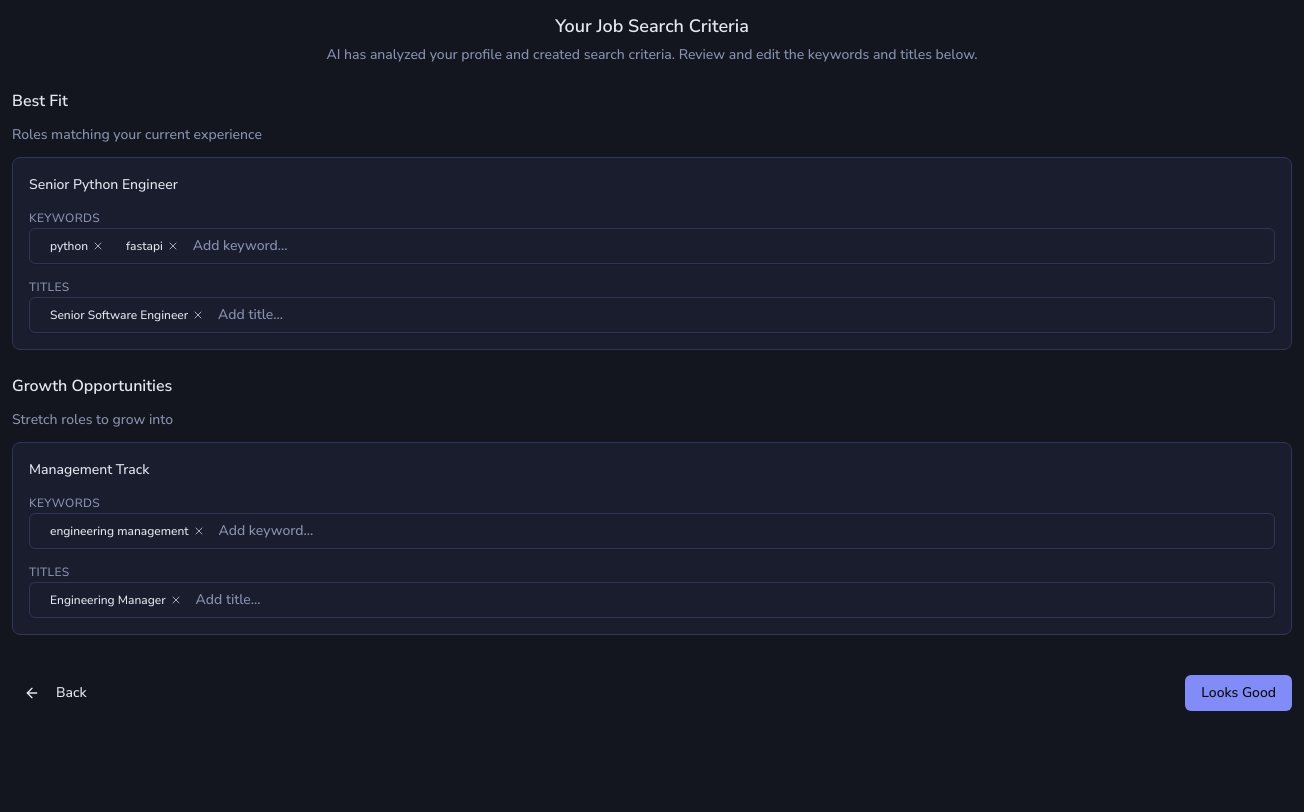
it: SearchCriteriaStep › tag editing › removes a title tag when X is clicked
Expected: the button with test id "approve-button" is shown, left=1185, top=675, right=1292, bottom=711
Click the button named "remove Senior Software Engineer" at (198, 315), box left=192, top=309, right=204, bottom=321
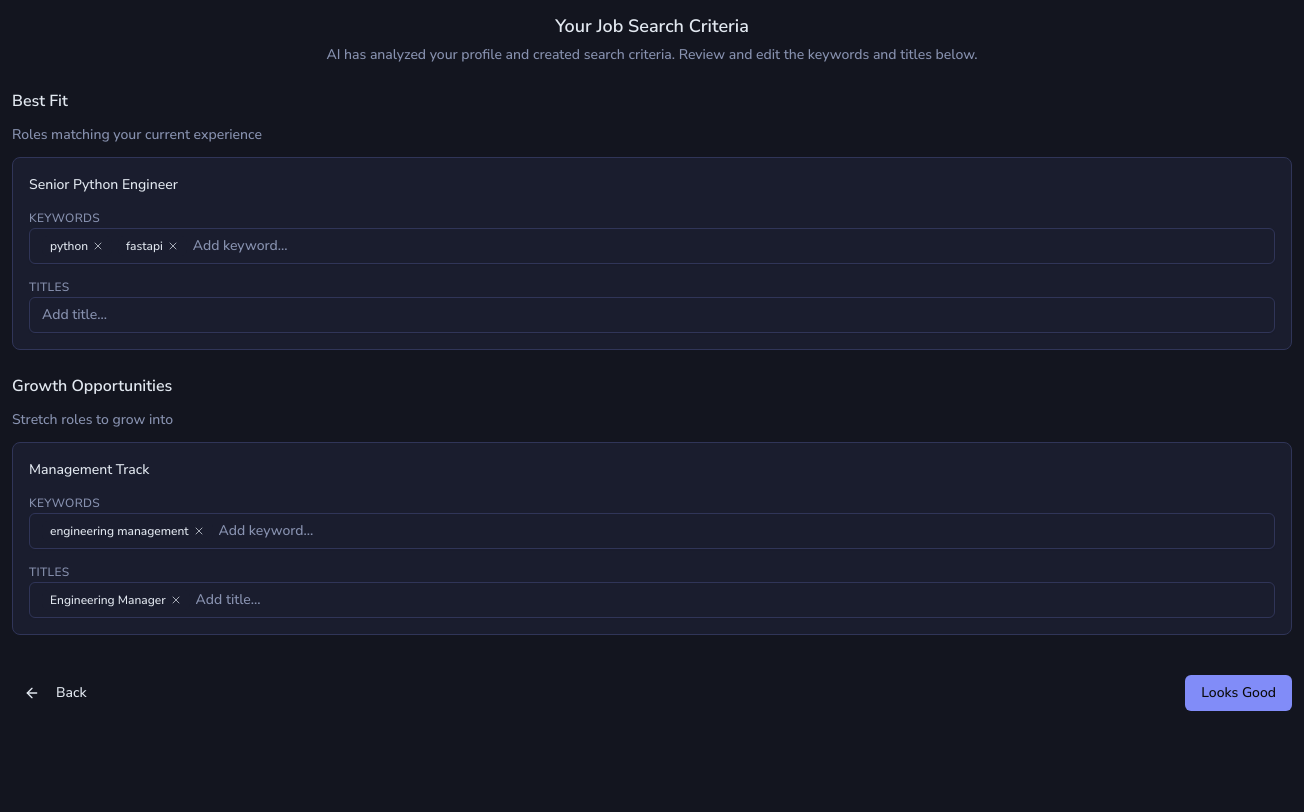
Now the text "Senior Software Engineer" is gone
